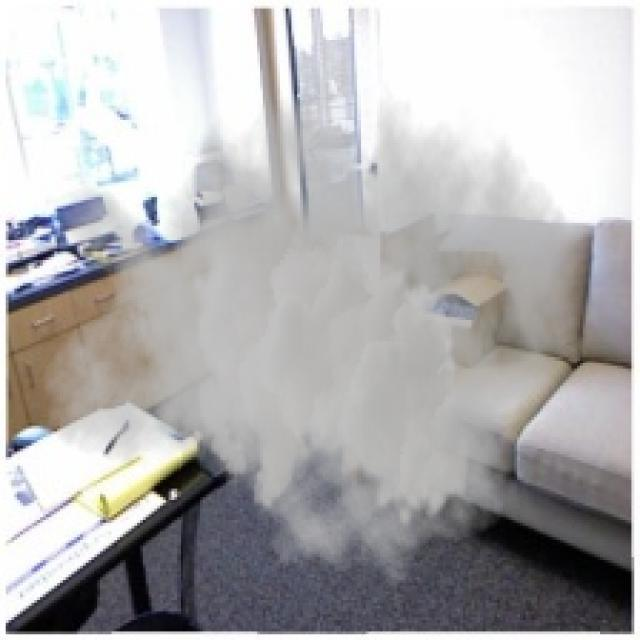Smoke: (40, 37, 580, 589)
